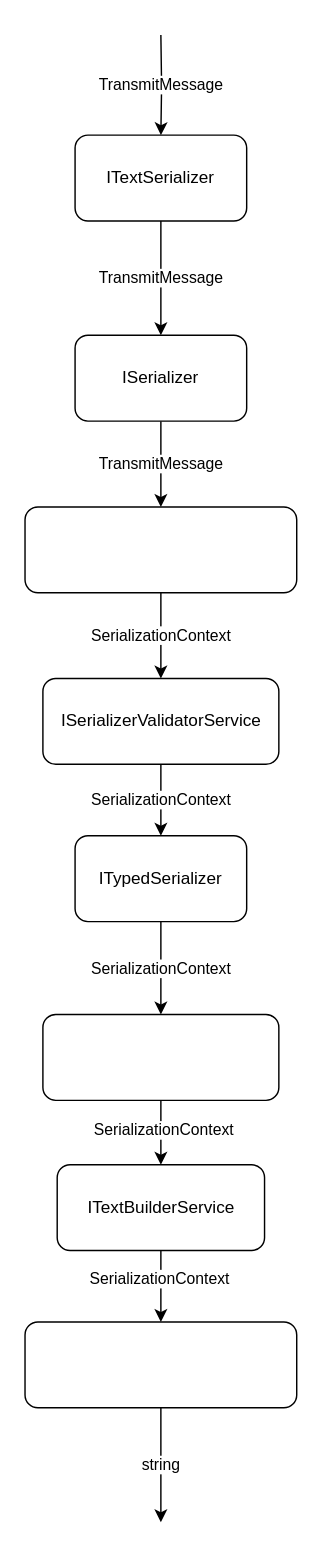
This 322x1559 diagram has some shape labels left out. The centre of each missing label's shape, as x and y in pixels:
"ISerializationContextFactory" belongs at (x=160, y=549).
"ISerializerFormatterService" belongs at (x=160, y=1056).
"ISerializerPostProcessorService" belongs at (x=160, y=1364).
